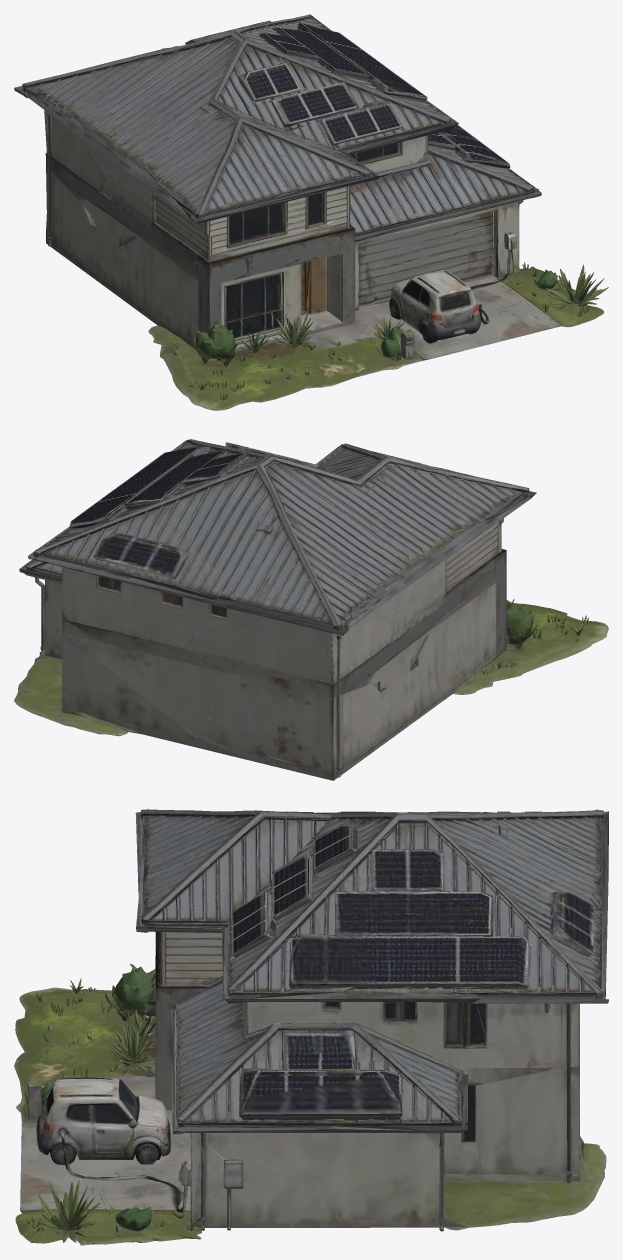
Rendered from solar_house_2.glb.
3 renders of one model, top to bottom at view 1: azimuth 30°, elevation 25°; view 2: azimuth 150°, elevation 25°; view 3: azimuth 270°, elevation 25°, orthographic. The views are drawn at different scales.
Size of the model in its own units: 1.9 by 0.9711 by 1.8.
1 material, 1 textured.
